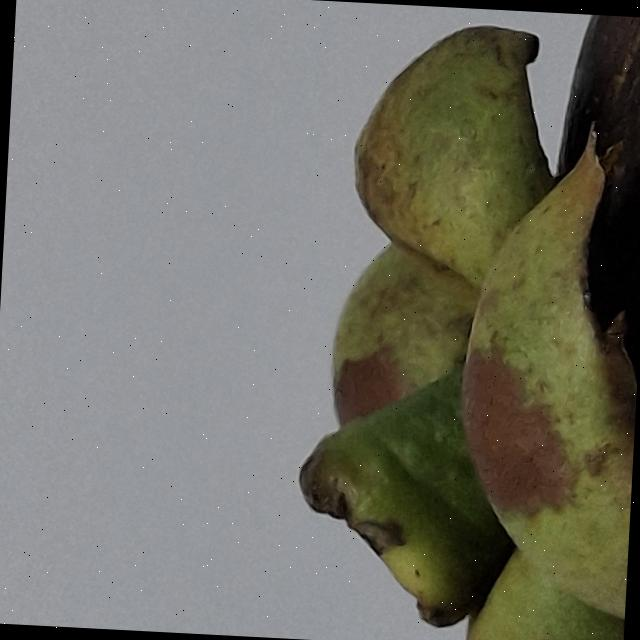mangosteen: (108, 0, 640, 640)
